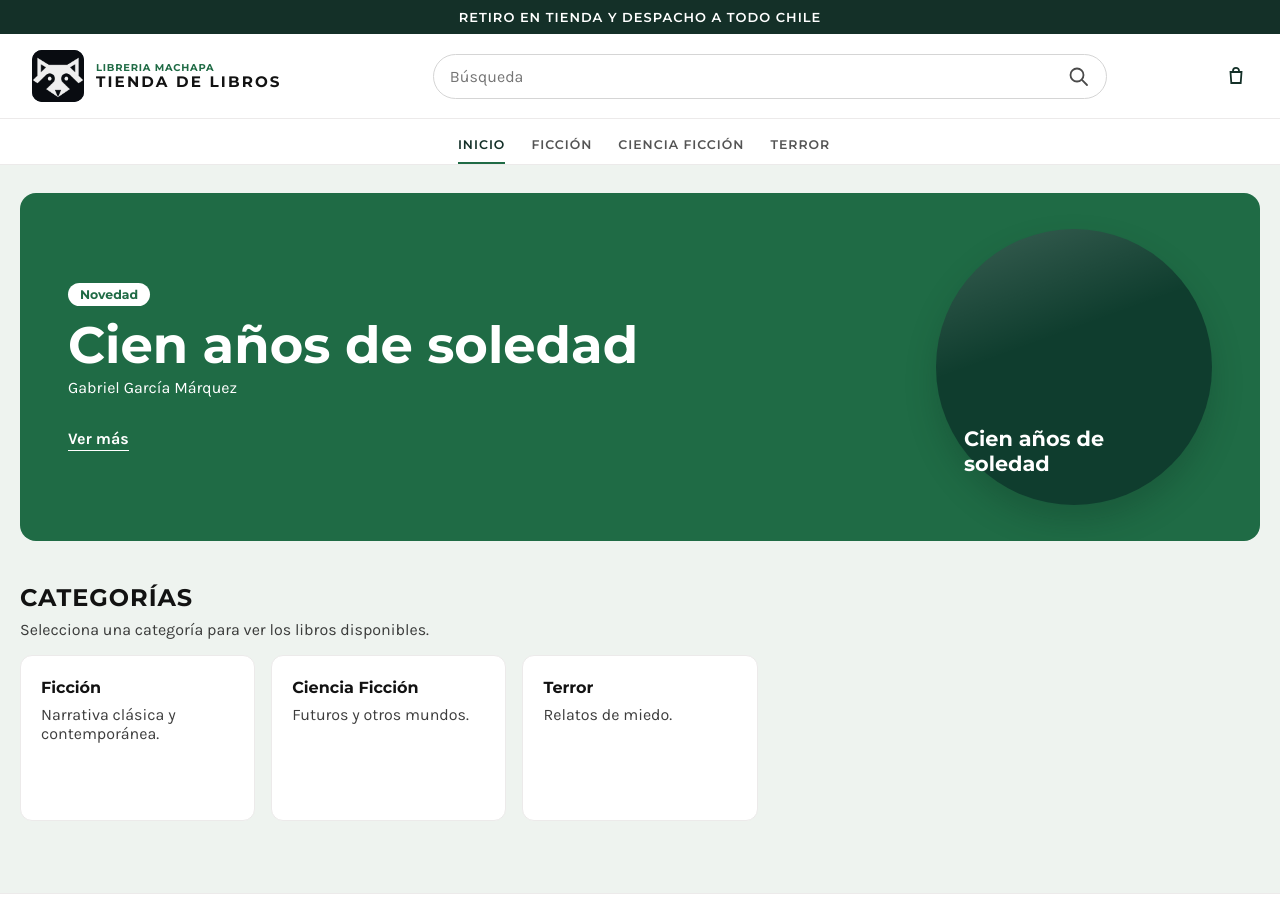
Test: ofrece reintento y otra categoría cuando el servicio falla
Click the link "Terror": click(800, 144) [770,137,830,152]
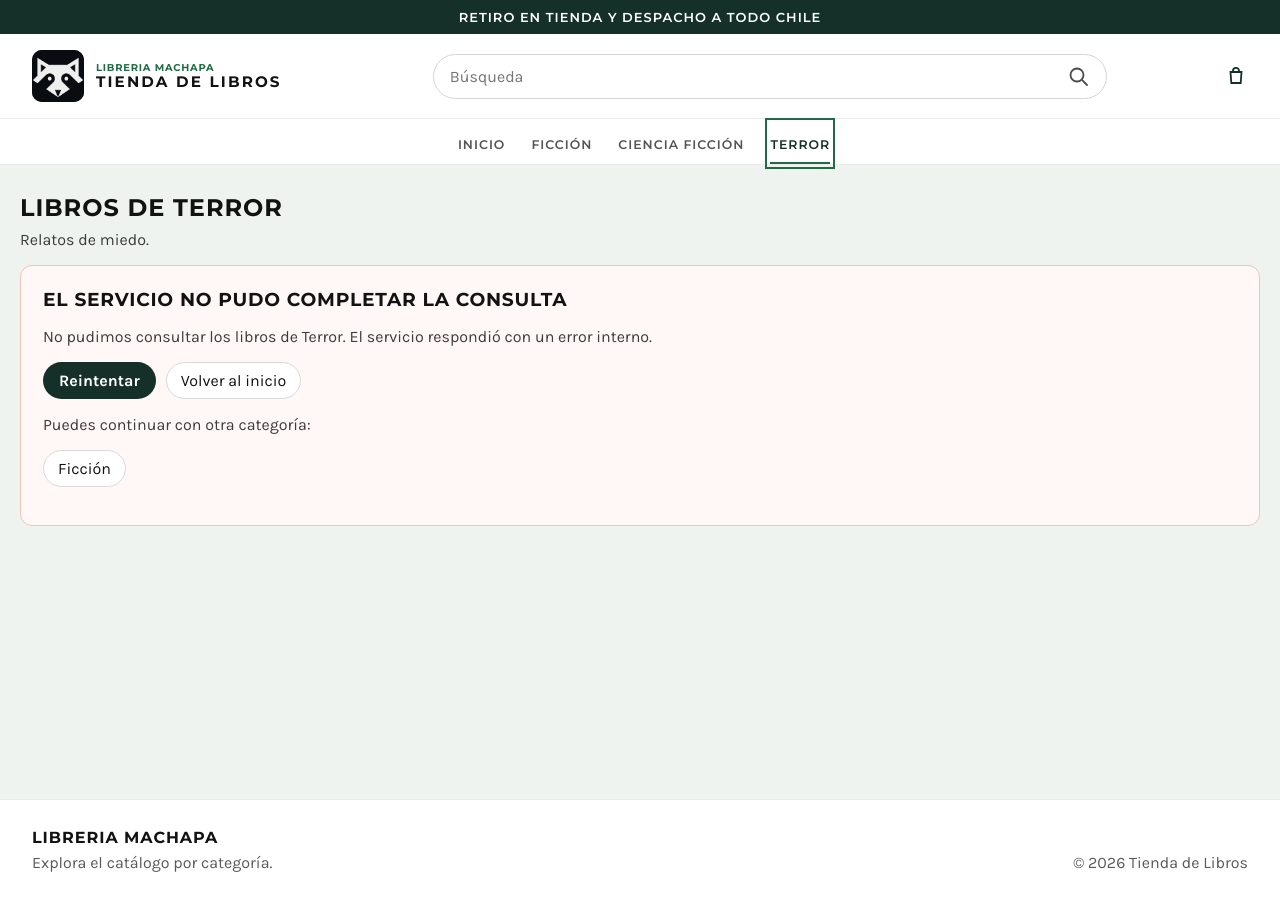
Now the heading "El servicio no pudo completar la consulta" is shown, box [43,288,567,311]
Now the button "Reintentar" is shown, box [43,362,156,399]
Now the link "Volver al inicio" is shown, box [166,362,301,399]
